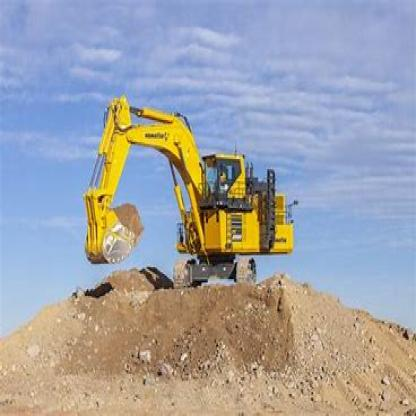excavator: (70, 80, 320, 298)
